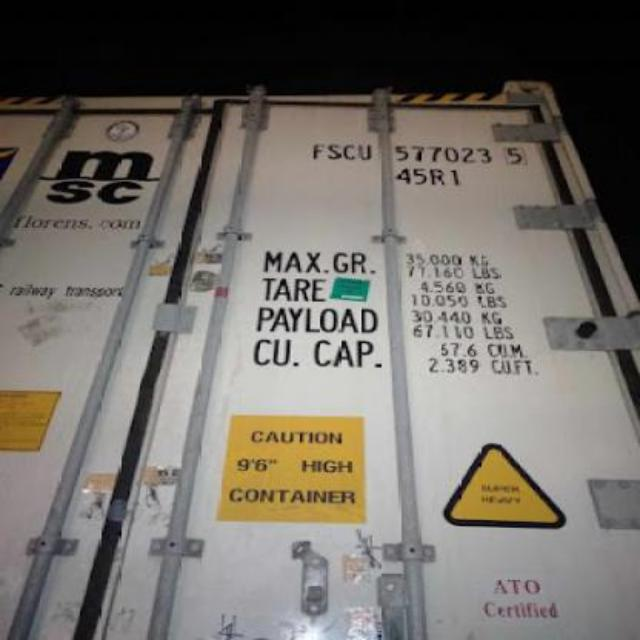0: (438, 140, 458, 163)
2: (460, 138, 476, 166)
3: (476, 138, 494, 168)
5: (504, 142, 528, 166), (392, 142, 410, 164)
7: (406, 140, 428, 163), (430, 142, 440, 166)
C: (340, 136, 358, 168)
F: (306, 137, 326, 167)
S: (326, 136, 339, 168)
U: (358, 140, 376, 168)
